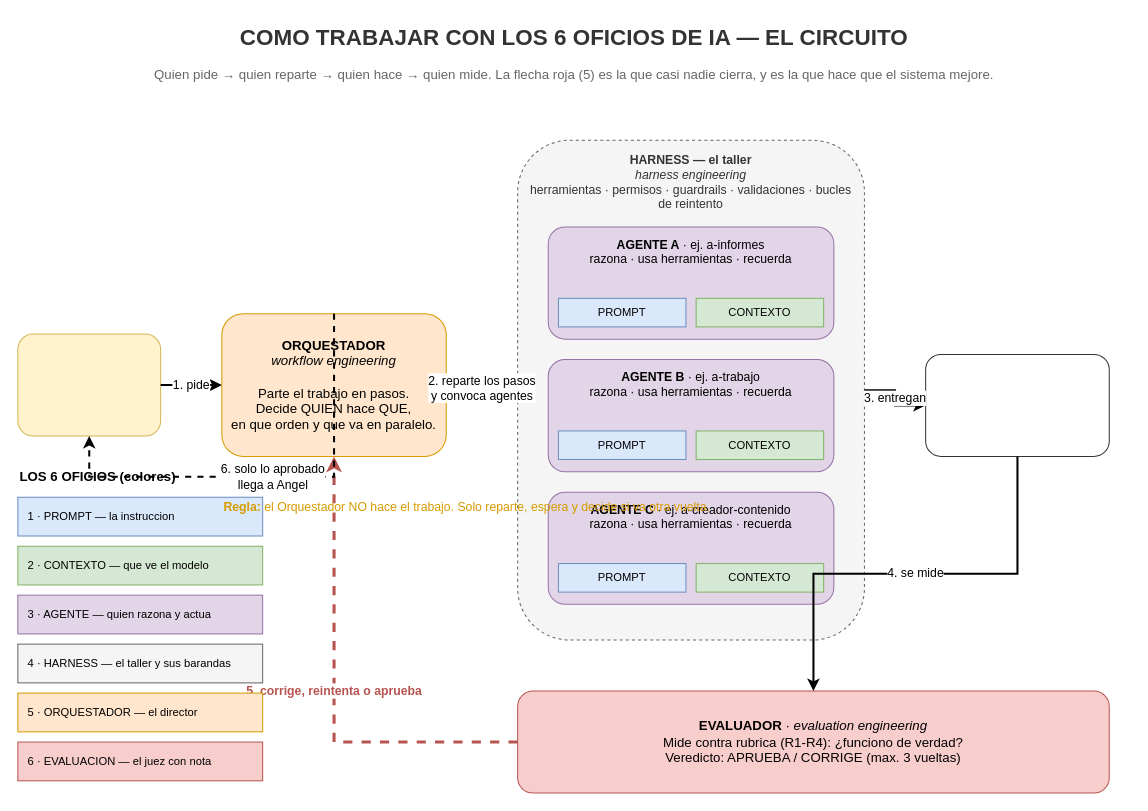
This 1148x811 diagram has some shape labels left out. The shapes that lost their labels are listed below. From the top down, each one's centre as x and y in pixels, then its label:
At (89,384): "ANGEL el pedido (y la decision final)".
At (1017,404): "RESULTADO informe, archivo, accion hecha".
